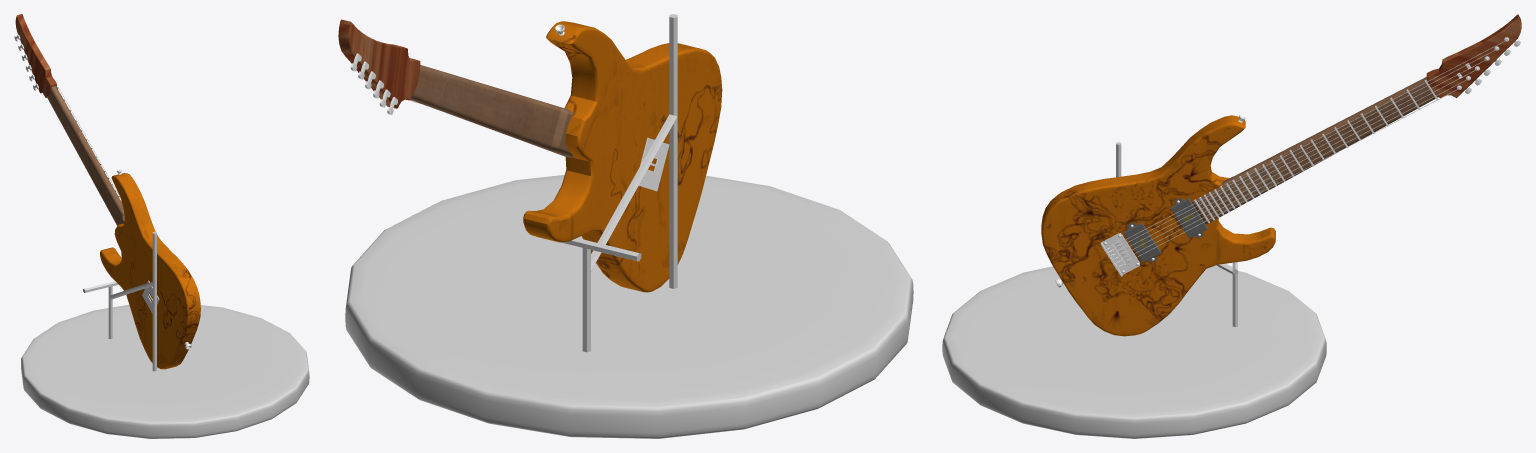
File: guitar.glb
The picture shows the model from 3 angles, left to right: view 1: azimuth 30°, elevation 25°; view 2: azimuth 150°, elevation 25°; view 3: azimuth 270°, elevation 25°; orthographic projection. The views are drawn at different scales.
Visible parts, largest first — view 1: pCylinder12, main_guitar_shape, guitar_holder, end_wire_holder, pCylinder13; view 2: pCylinder12, main_guitar_shape, guitar_holder, end_wire_holder, pCylinder13, pCylinder16, pCylinder14, pCube46, pCylinder15; view 3: pCylinder12, main_guitar_shape, guitar_holder, end_wire_holder, polySurface30, pCube28, pCube27, wire_edjust.
Boxes of the visible parts, left/top/right/bottom form: pCylinder12: left=21, top=304, right=309, bottom=438; main_guitar_shape: left=100, top=173, right=200, bottom=369; guitar_holder: left=47, top=86, right=124, bottom=225; end_wire_holder: left=15, top=14, right=56, bottom=97; pCylinder13: left=152, top=232, right=156, bottom=371; pCylinder12: left=345, top=175, right=913, bottom=438; main_guitar_shape: left=523, top=21, right=722, bottom=292; guitar_holder: left=411, top=65, right=573, bottom=157; end_wire_holder: left=338, top=19, right=420, bottom=108; pCylinder13: left=669, top=14, right=677, bottom=288; pCylinder16: left=591, top=114, right=677, bottom=270; pCylinder14: left=582, top=245, right=590, bottom=352; pCube46: left=639, top=137, right=669, bottom=191; pCylinder15: left=561, top=238, right=641, bottom=261; pCylinder12: left=942, top=266, right=1326, bottom=438; main_guitar_shape: left=1041, top=115, right=1275, bottom=336; guitar_holder: left=1192, top=77, right=1438, bottom=224; end_wire_holder: left=1426, top=14, right=1521, bottom=97; polySurface30: left=1194, top=80, right=1437, bottom=222; pCube28: left=1123, top=222, right=1161, bottom=262; pCube27: left=1170, top=197, right=1208, bottom=238; wire_edjust: left=1100, top=233, right=1140, bottom=276.
Size of the model in its own units: 0.0828 by 0.0817 by 0.1247.
7 materials, 4 textured.
